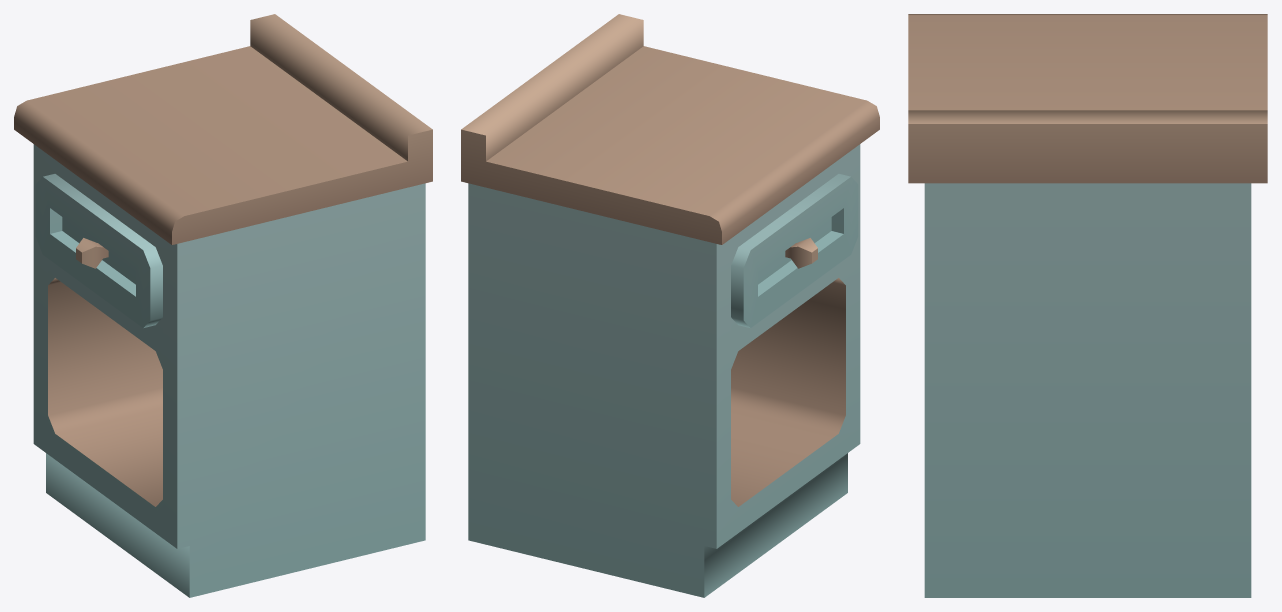
Rendered from cabinet-decorative-drawer.glb.
3 views of the same model, side by side, from view 1: azimuth 30°, elevation 25°; view 2: azimuth 150°, elevation 25°; view 3: azimuth 270°, elevation 25° (orthographic). The views are drawn at different scales.
Visible parts, largest first — view 1: cabinet-decorative-drawer; view 2: cabinet-decorative-drawer; view 3: cabinet-decorative-drawer.
Part boxes in pixels (box(x1,y1,x2,y2)): cabinet-decorative-drawer: box(14, 14, 432, 597); cabinet-decorative-drawer: box(461, 14, 879, 597); cabinet-decorative-drawer: box(908, 14, 1267, 597).
Size of the model in its own units: 0.5532 by 0.8 by 0.55.
